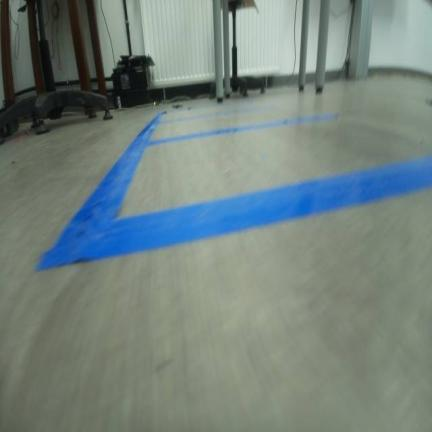place: (37, 110, 431, 277), (123, 98, 337, 149)
